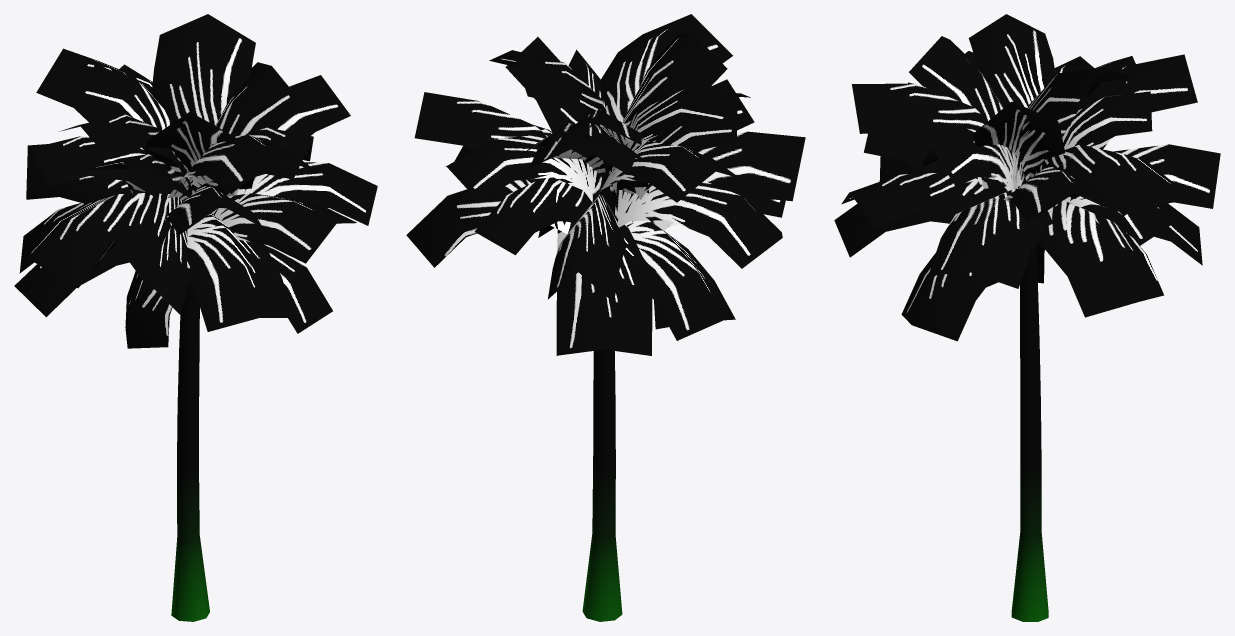
File: P_CoconutPalm02.obj
3 views of the same model, side by side, from view 1: azimuth 30°, elevation 25°; view 2: azimuth 150°, elevation 25°; view 3: azimuth 270°, elevation 25° (orthographic). The views are drawn at different scales.
Bounding box in the file's own units: 6.6 × 10.89 × 6.64.
